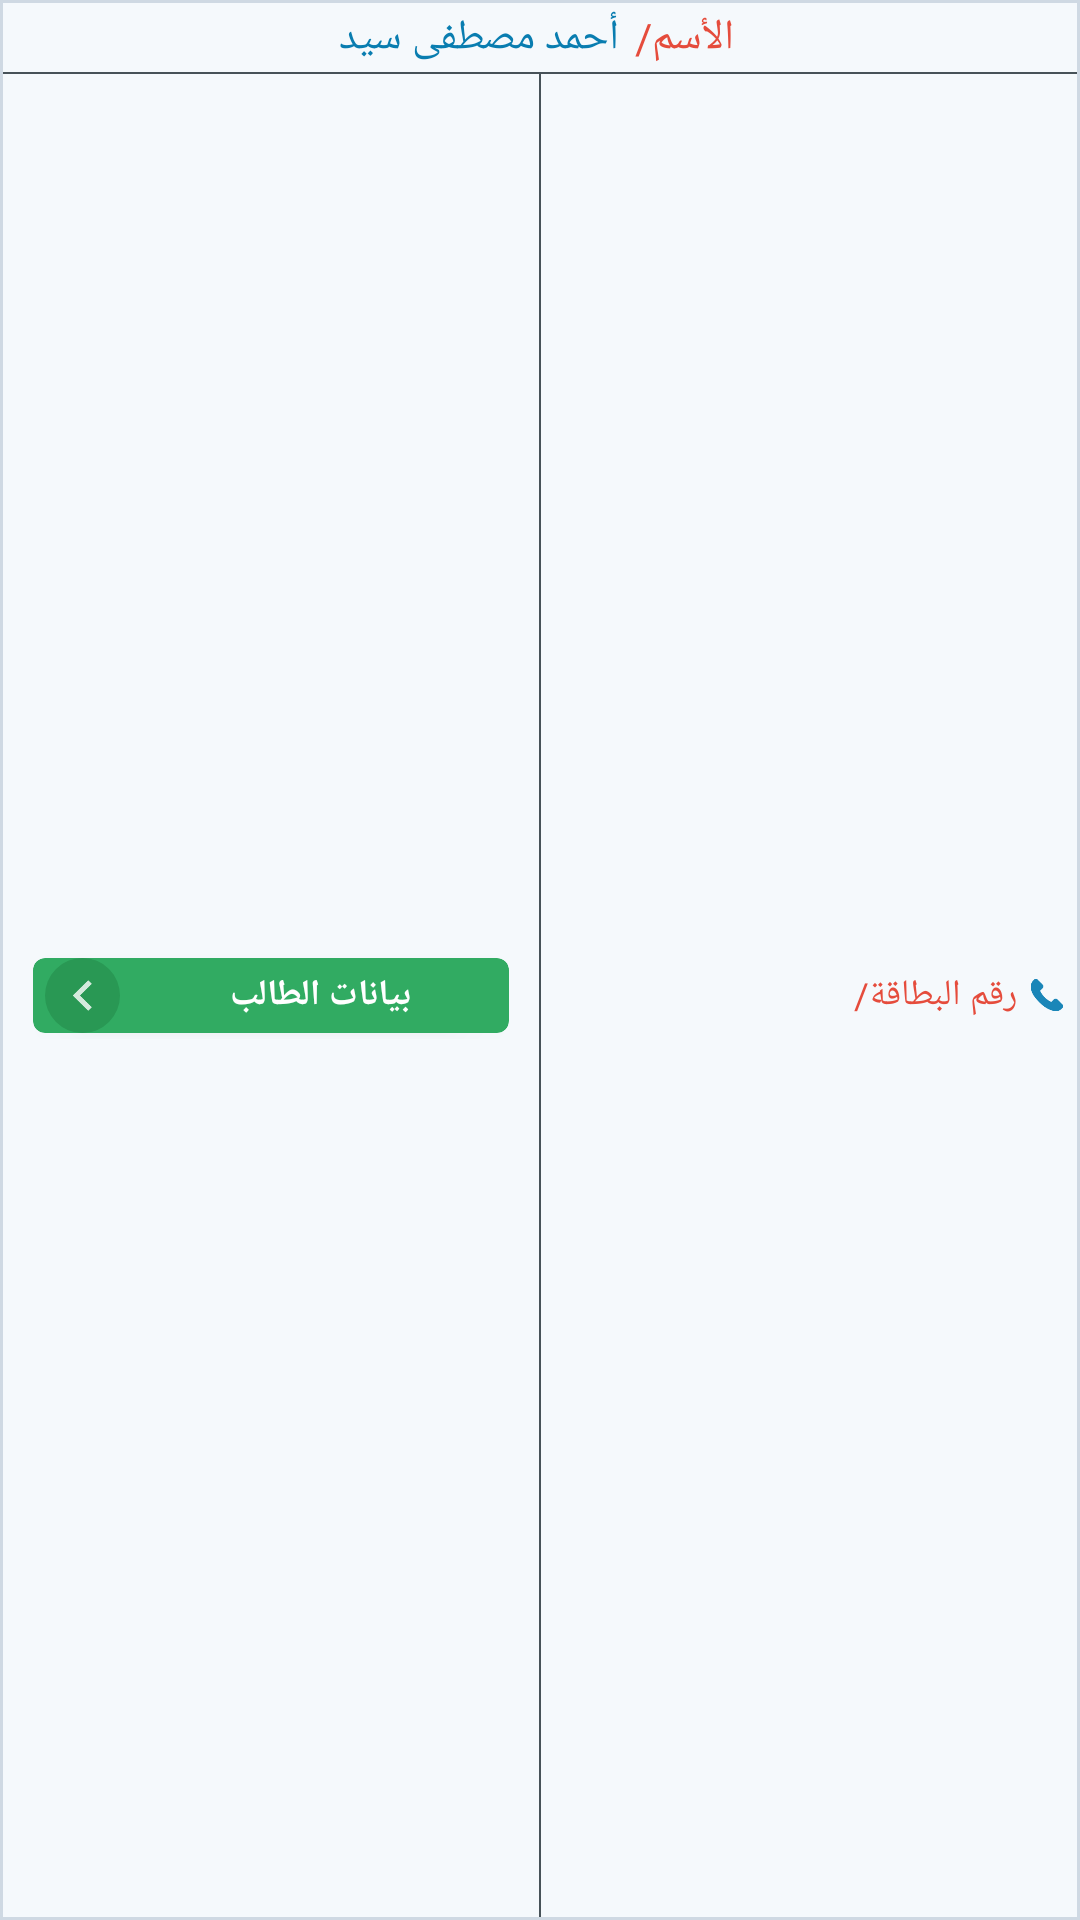

Icon bounding boxes for this 1080w x 1920h phone screenshot, format (x1, y1, x2, y2):
me call: (1031, 979, 1063, 1011)
pro arrow: (45, 958, 120, 1033)
